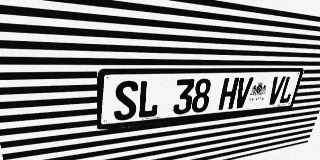3: (172, 79, 195, 115)
8: (191, 78, 213, 113)
H: (218, 78, 239, 110)
L: (137, 80, 161, 119), (278, 76, 297, 104)
S: (114, 80, 139, 121)
V: (233, 77, 254, 109), (266, 76, 286, 105)
